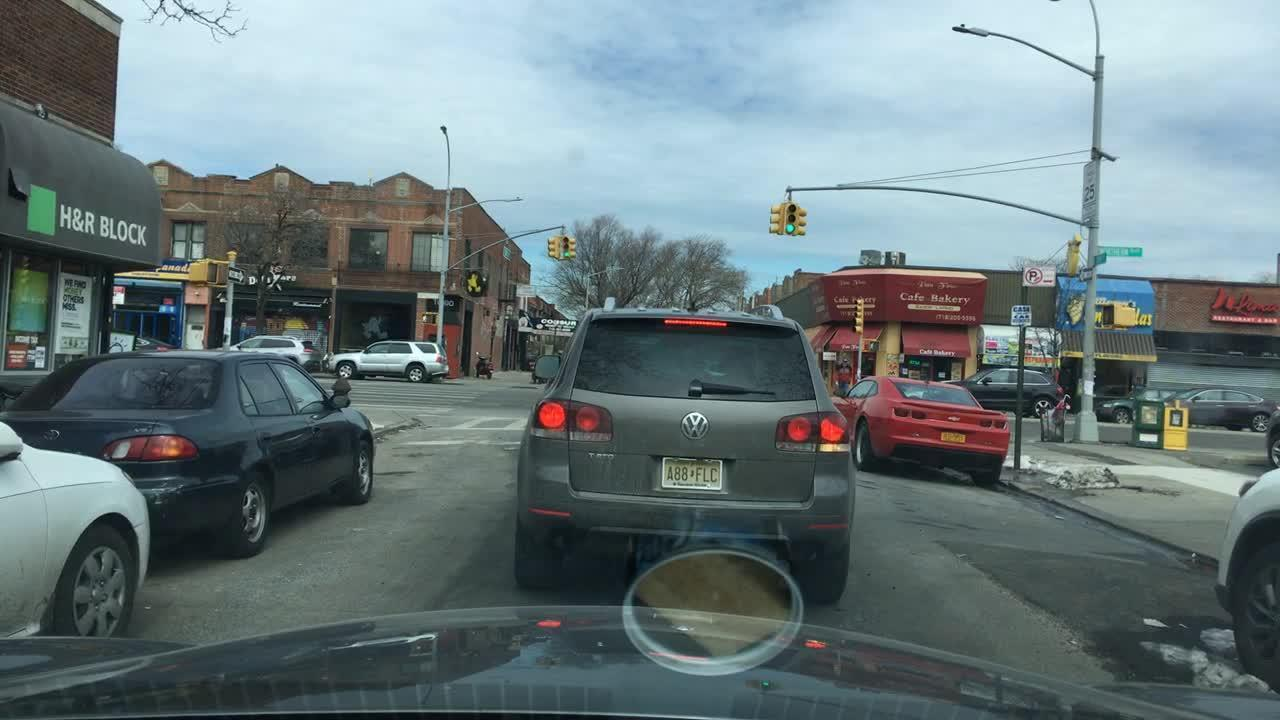Toyota: (40, 423, 67, 446)
Volkswagen: (675, 400, 723, 448)
chevrolet: (940, 410, 971, 430)
